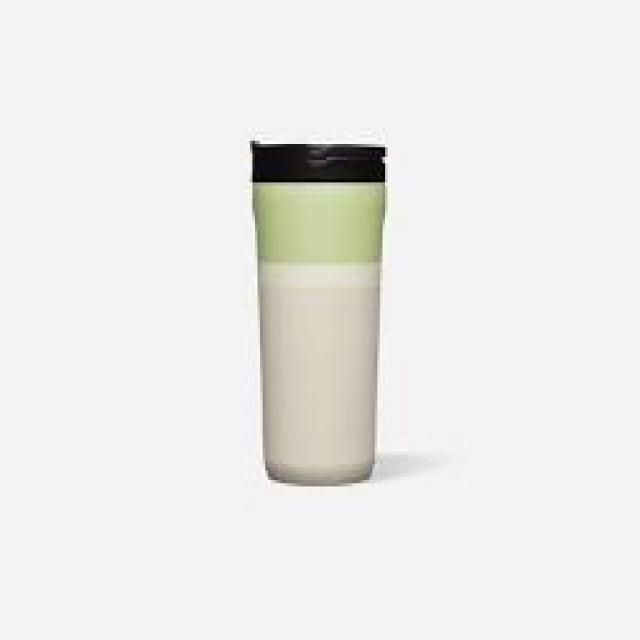bottle: (250, 142, 387, 487)
